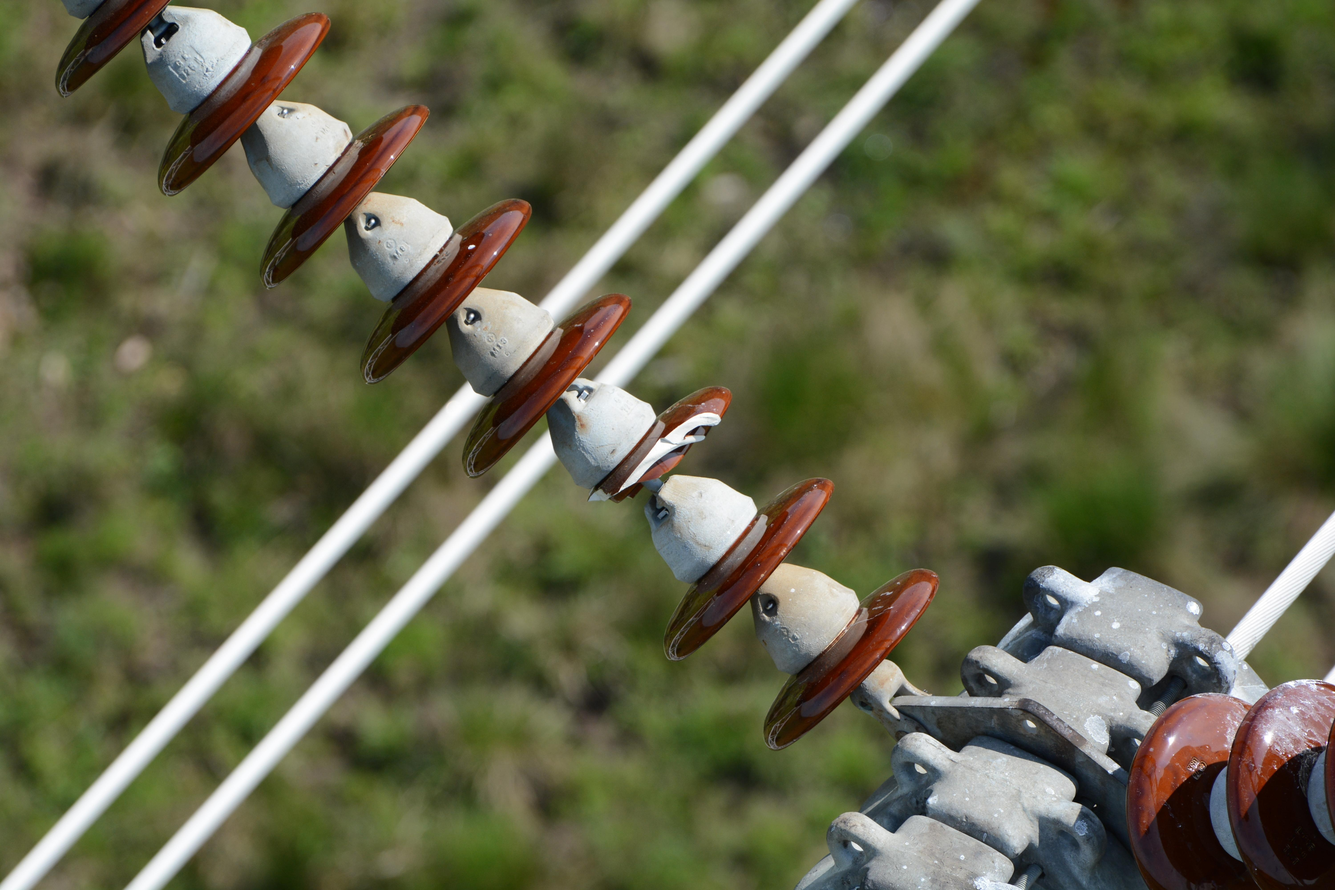damaged: (580, 386, 729, 510)
insulator: (58, 10, 937, 754), (1121, 676, 1335, 890)
